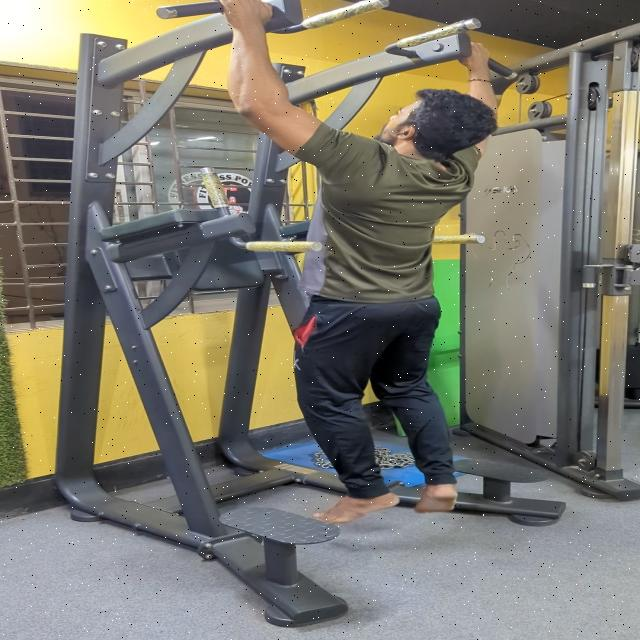Normal_PullUps: (158, 3, 518, 537)
